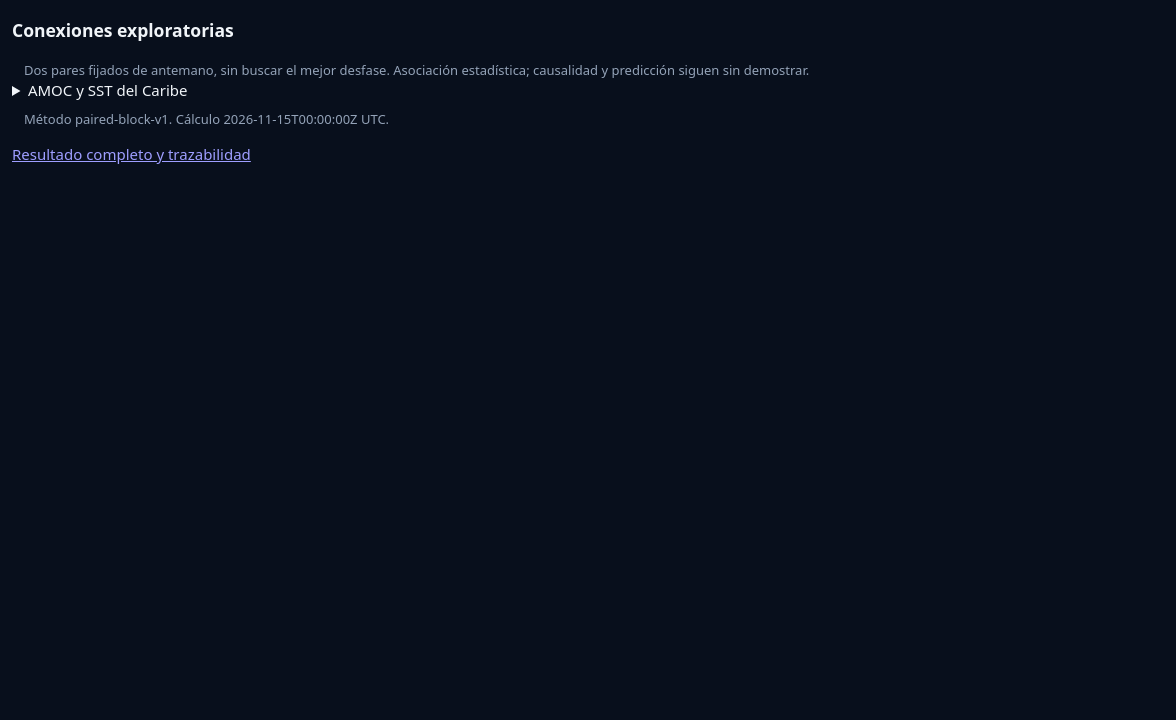
Test: compares raw and adjusted association with interval sensitivity, scope and CSV
Click the heading "AMOC y SST del Caribe" at [108, 90], box [28, 80, 188, 100]
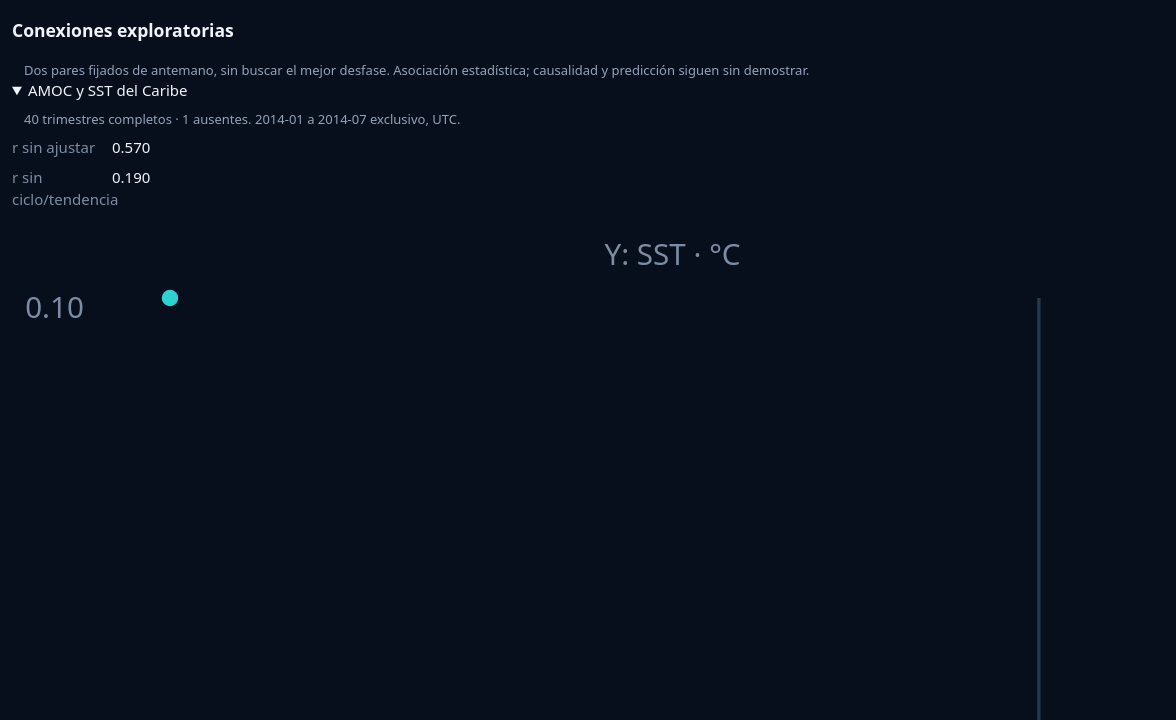
Expected: the text "causalidad y predicción siguen sin demostrar" is shown, [24, 60, 809, 78]
Expected: the text "0.570" is shown, [112, 137, 150, 157]
Expected: the text "0.190" is shown, [112, 167, 150, 187]
